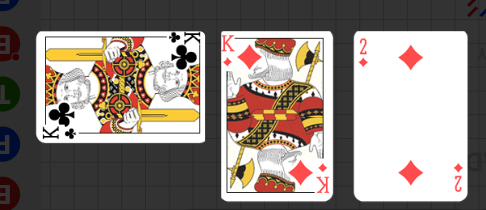2D: (452, 161, 464, 193)
KC: (40, 122, 81, 141)
KD: (316, 161, 331, 195)
